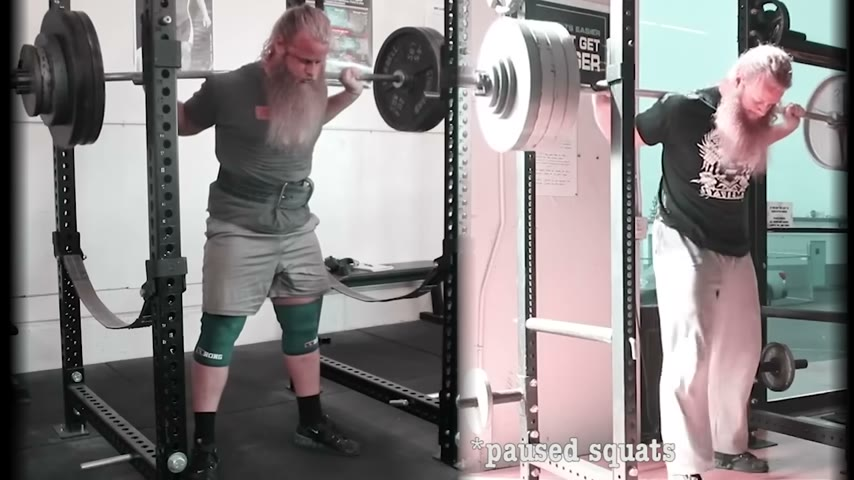barbell_plate_side: (2, 2, 109, 155)
